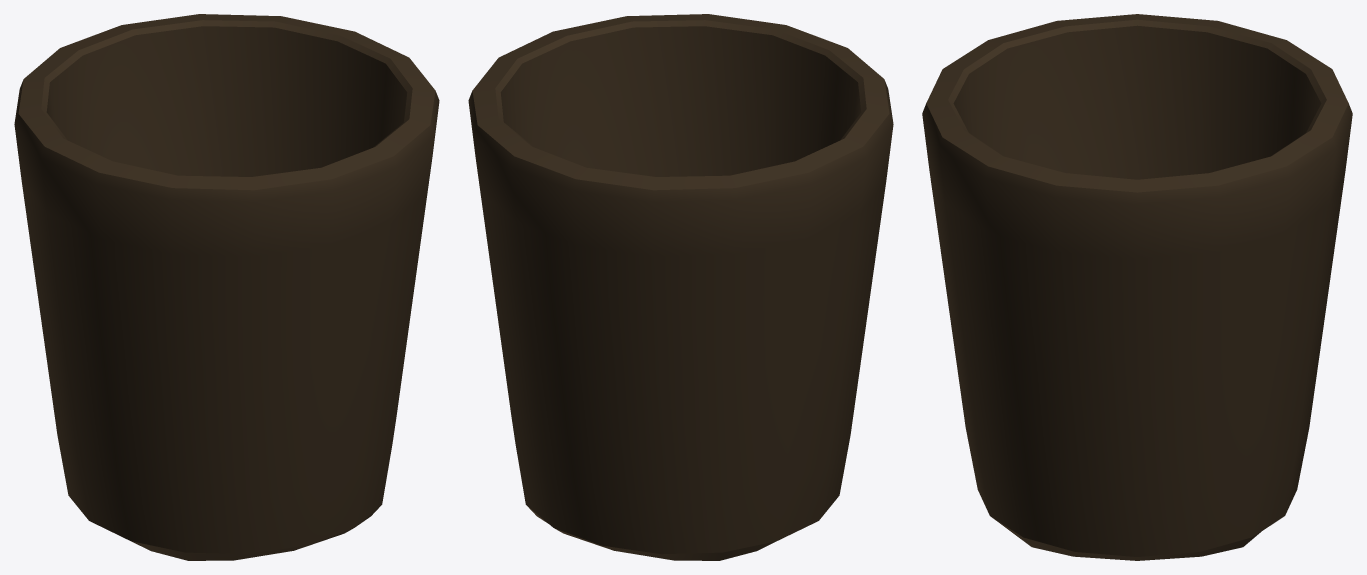
File: Waste_bin.fbx
3 views of the same model, side by side, from view 1: azimuth 30°, elevation 25°; view 2: azimuth 150°, elevation 25°; view 3: azimuth 270°, elevation 25° (orthographic).
Parts seen in each view (by area): view 1: Waste_bin; view 2: Waste_bin; view 3: Waste_bin.
Part boxes in pixels (x1,y1,x2,y2): Waste_bin: (14, 14, 439, 560); Waste_bin: (468, 14, 893, 560); Waste_bin: (922, 14, 1352, 560).
Size of the model in its own units: 27.38 by 28.61 by 27.38.
